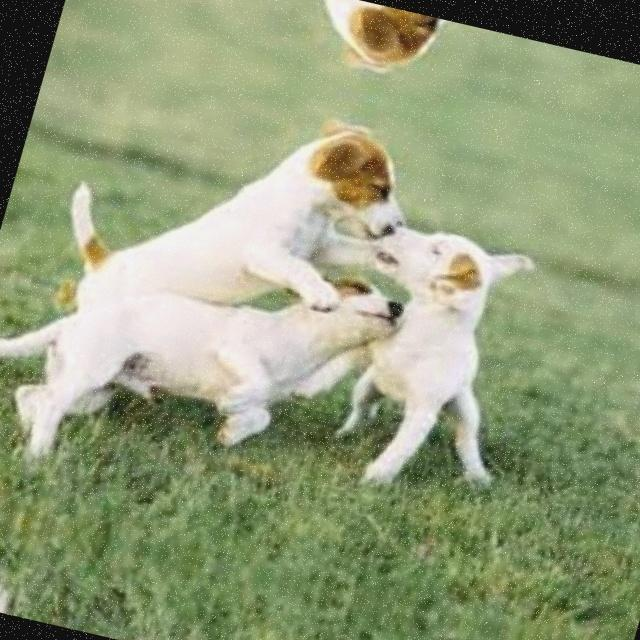dog: (300, 174, 572, 548), (433, 19, 617, 84)
